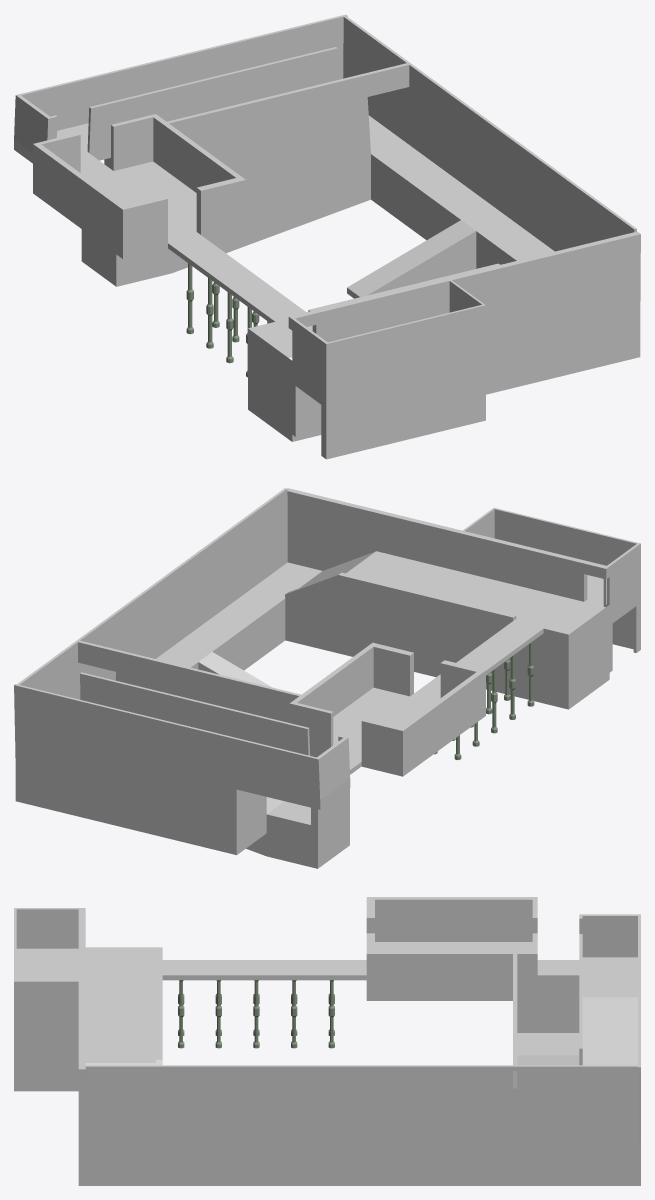
The model's file is homebase.gltf.
3 views of the same model, one above another, from view 1: azimuth 30°, elevation 25°; view 2: azimuth 150°, elevation 25°; view 3: azimuth 270°, elevation 25° (orthographic). The views are drawn at different scales.
Visible parts, largest first — view 1: homebase<trimesh>, pillar_01_1x12x1<trimesh>; view 2: homebase<trimesh>, pillar_01_1x12x1<trimesh>; view 3: homebase<trimesh>, pillar_01_1x12x1<trimesh>.
Part boxes in pixels (left/top/right/bottom): homebase<trimesh>: left=14, top=14, right=640, bottom=459; pillar_01_1x12x1<trimesh>: left=186, top=263, right=269, bottom=377; homebase<trimesh>: left=14, top=488, right=640, bottom=868; pillar_01_1x12x1<trimesh>: left=434, top=641, right=534, bottom=760; homebase<trimesh>: left=14, top=897, right=640, bottom=1185; pillar_01_1x12x1<trimesh>: left=178, top=980, right=334, bottom=1048.
Size of the model in its own units: 129 by 50.37 by 200.
